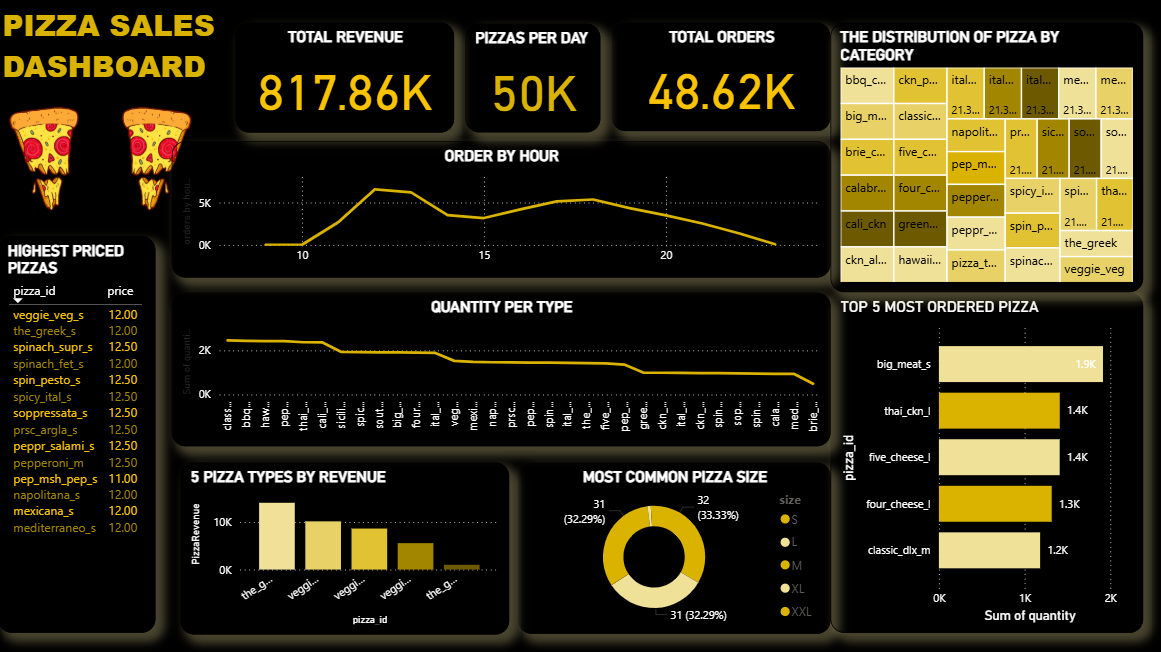

Layout of this report page (visuals, bound fields, positions):
{"tool":"powerbi","page":{"name":"BASICS & INTERMEDIATE","canvas":[1280,720],"ordinal":0},"visuals":[{"type":"card","title":"TOTAL ORDERS","fields":{"Values":["CountNonNull(order_details.order_id)"]},"box":[673.8,24.7,240.1,119.4],"z":0},{"type":"image","box":[0,0,104.1,134.1],"z":1000},{"type":"image","box":[87.8,0,172.9,134.5],"z":2000},{"type":"card","title":"TOTAL REVENUE","fields":{"Values":["pizzas.Total Revenue"]},"box":[260.7,24.7,240.1,120.8],"z":3000},{"type":"donutChart","title":"MOST COMMON PIZZA SIZE","fields":{"Category":["pizzas.size"],"Y":["CountNonNull(pizzas.size)"]},"box":[570.3,507.8,343.4,187.7],"z":4000},{"type":"barChart","title":"TOP 5 MOST ORDERED PIZZA","fields":{"Y":["Sum(order_details.quantity)"],"Category":["order_details.pizza_id"]},"box":[913.9,321.1,343.1,373.2],"z":5000},{"type":"tableEx","title":"HIGHEST PRICED PIZZAS","fields":{"Values":["order_details.pizza_id","pizzas.price"]},"box":[0,259,173.1,435],"z":6000},{"type":"lineChart","title":"QUANTITY PER TYPE","fields":{"Y":["Sum(order_details.quantity)"],"Category":["pizzas.pizza_type_id"]},"box":[190.7,321.1,723.2,168.8],"z":7000},{"type":"lineChart","title":"ORDER BY HOUR","fields":{"Category":["orders.OrderHour"],"Y":["CountNonNull(order_details.order_id)"]},"box":[190.7,155.1,723.2,149.6],"z":8000},{"type":"treemap","title":"THE DISTRIBUTION OF PIZZA BY CATEGORY","fields":{"Group":["pizza_types.Column1","pizza_types.Column3","pizza_types.Column4","pizza_types.Column2"],"Values":["CountNonNull(orders.order_id)"]},"box":[913.9,24.7,343.1,296.4],"z":9000},{"type":"card","title":"PIZZAS PER DAY","fields":{"Values":["order_details.TotalPizzasPerDay"]},"box":[513.2,26.1,148.2,119.4],"z":10000},{"type":"columnChart","title":"5 PIZZA TYPES BY REVENUE","fields":{"Category":["order_details.pizza_id"],"Y":["order_details.PizzaRevenue"]},"box":[200.8,507.8,360.8,189.1],"z":11000},{"type":"textbox","box":[0,133.8,260.4,106.2],"z":12000}]}

Visuals, with their boxes in screenshot pixels (x1, y1, x2, y2), scaled from the page's 1280x720 canvas onto the 1161x652 screenshot:
"TOTAL ORDERS" card: Rect(611, 22, 829, 130)
image: Rect(0, 0, 94, 121)
image: Rect(80, 0, 236, 122)
"TOTAL REVENUE" card: Rect(236, 22, 454, 132)
"MOST COMMON PIZZA SIZE" donutChart: Rect(517, 460, 829, 630)
"TOP 5 MOST ORDERED PIZZA" barChart: Rect(829, 291, 1140, 629)
"HIGHEST PRICED PIZZAS" tableEx: Rect(0, 235, 157, 628)
"QUANTITY PER TYPE" lineChart: Rect(173, 291, 829, 444)
"ORDER BY HOUR" lineChart: Rect(173, 140, 829, 276)
"THE DISTRIBUTION OF PIZZA BY CATEGORY" treemap: Rect(829, 22, 1140, 291)
"PIZZAS PER DAY" card: Rect(465, 24, 600, 132)
"5 PIZZA TYPES BY REVENUE" columnChart: Rect(182, 460, 509, 631)
textbox: Rect(0, 121, 236, 217)
